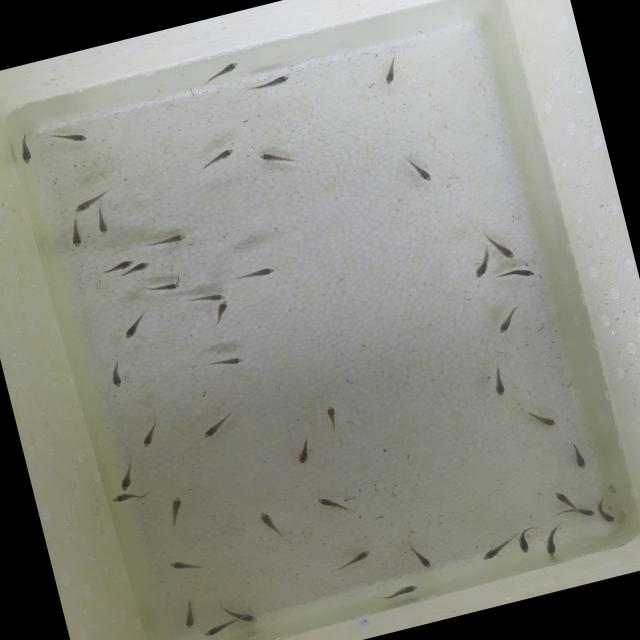fingerling: (189, 407, 241, 448), (255, 142, 308, 176), (327, 542, 376, 578), (192, 144, 242, 174), (196, 56, 246, 86), (244, 68, 298, 95), (372, 579, 422, 608), (132, 413, 168, 452), (168, 596, 204, 634), (138, 229, 192, 254), (522, 399, 560, 434), (118, 307, 156, 342), (404, 538, 439, 576), (220, 598, 261, 630), (563, 434, 595, 475), (106, 484, 156, 510), (538, 519, 568, 561), (202, 350, 248, 376), (474, 538, 516, 566), (49, 122, 91, 150), (377, 48, 407, 87), (135, 277, 186, 299), (160, 492, 190, 528), (484, 364, 513, 401), (101, 355, 129, 393), (232, 262, 278, 285), (162, 552, 202, 578), (500, 260, 539, 286), (112, 457, 140, 493), (62, 214, 89, 251), (195, 616, 236, 640), (290, 432, 318, 467), (490, 306, 521, 337), (486, 230, 516, 260), (206, 300, 237, 328), (406, 153, 434, 184), (98, 255, 138, 276), (320, 402, 344, 437), (14, 132, 38, 167), (66, 194, 105, 215), (593, 494, 618, 526), (468, 253, 496, 280), (317, 496, 348, 520), (260, 514, 286, 542), (188, 290, 227, 308), (550, 486, 578, 508), (566, 502, 596, 522), (93, 206, 111, 234), (514, 529, 533, 554), (128, 258, 155, 274)
